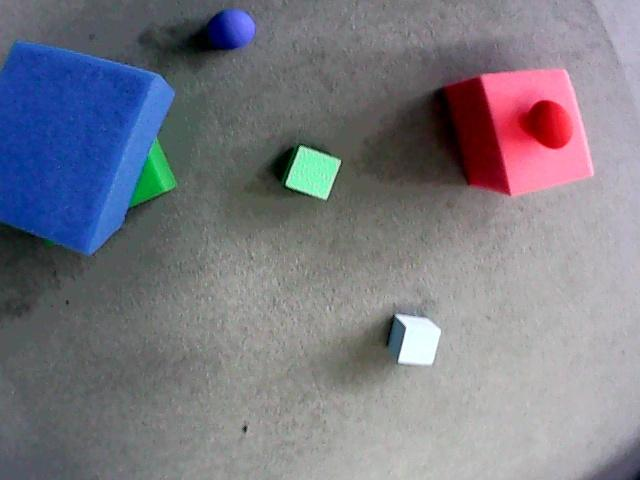blue_block: (0, 42, 174, 254), (388, 314, 440, 365), (387, 318, 406, 358)
red_block: (445, 70, 593, 194)
